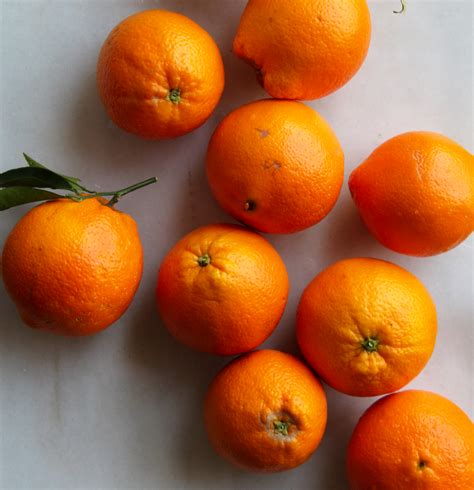orange: (1, 193, 147, 345), (295, 259, 437, 398), (153, 218, 293, 356), (93, 6, 229, 142), (209, 95, 342, 228), (194, 350, 329, 476)
